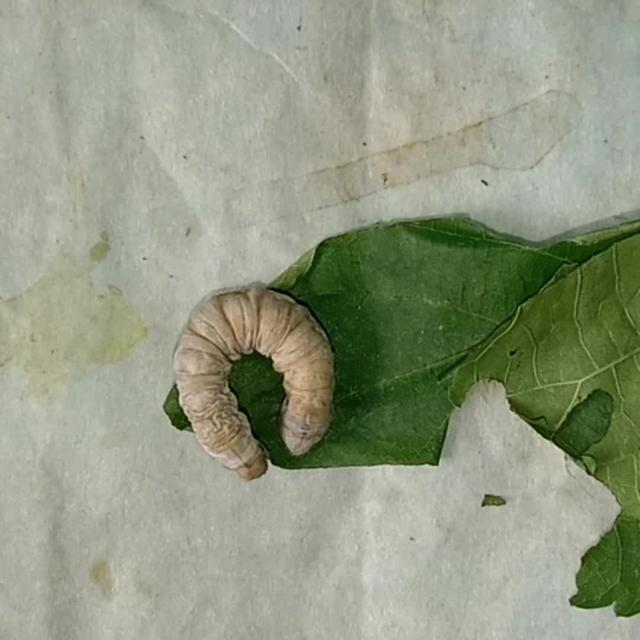Grasserie: (162, 282, 348, 487)
